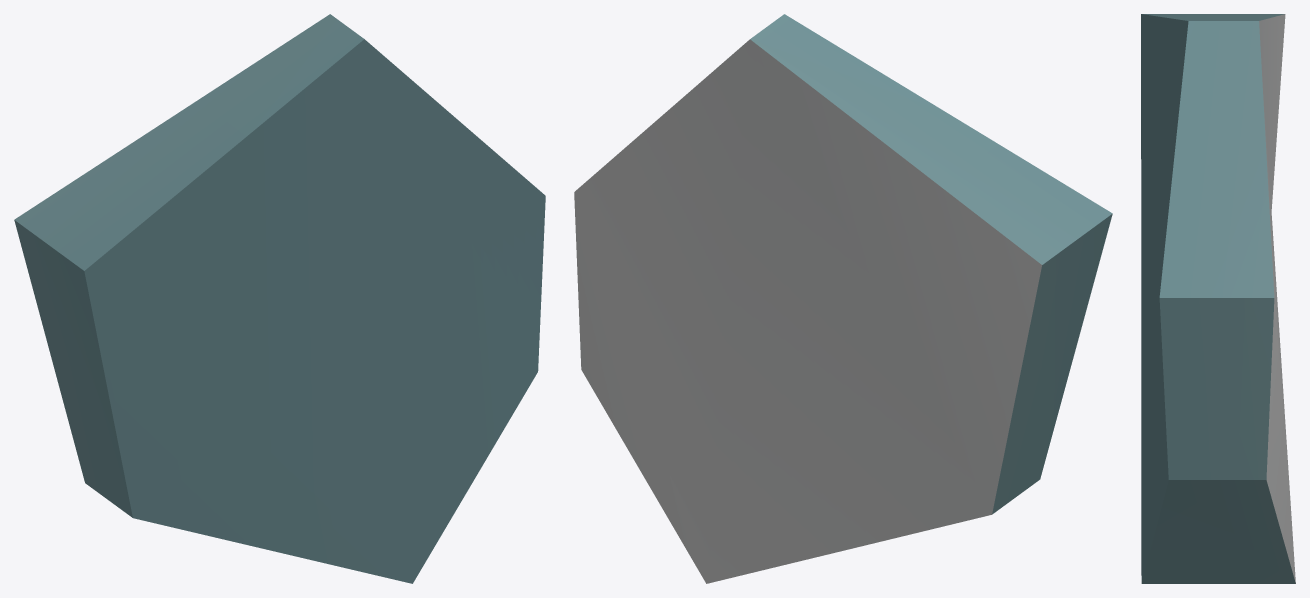
Rendered from IceDrift.003.glb.
3 views of the same model, side by side, from view 1: azimuth 30°, elevation 25°; view 2: azimuth 150°, elevation 25°; view 3: azimuth 270°, elevation 25° (orthographic). The views are drawn at different scales.
Parts seen in each view (by area): view 1: IceDrift.003; view 2: IceDrift.003; view 3: IceDrift.003.
Part boxes in pixels (left/top/right/bottom): IceDrift.003: left=14, top=14, right=545, bottom=583; IceDrift.003: left=574, top=14, right=1112, bottom=583; IceDrift.003: left=1141, top=14, right=1295, bottom=583.
Size of the model in its own units: 173 by 188 by 47.91.
